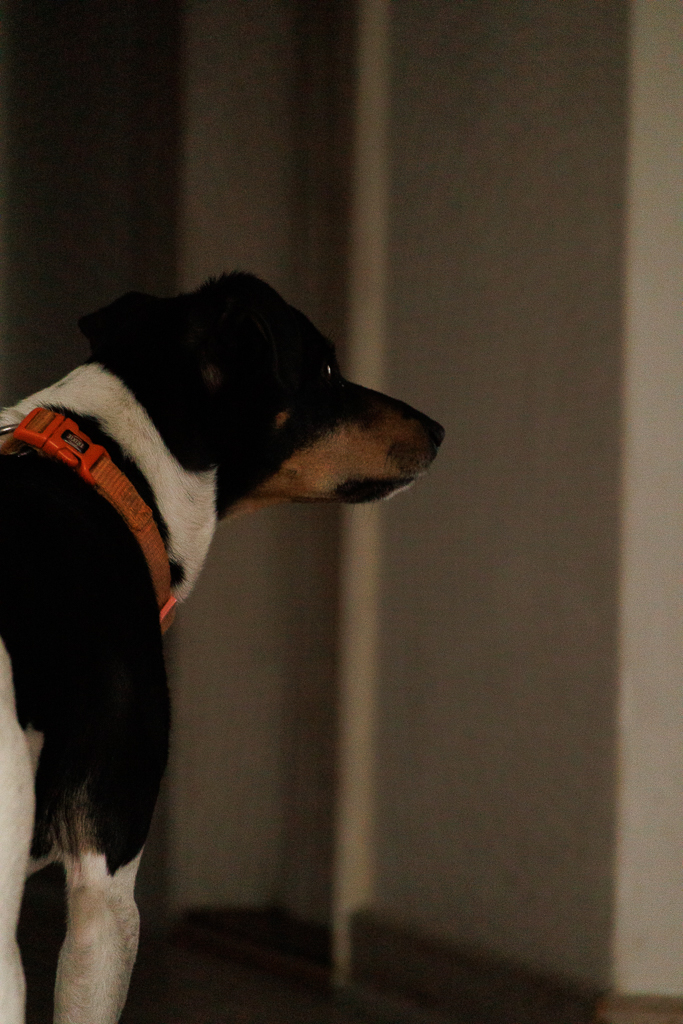Dog: (0, 254, 459, 1024)
